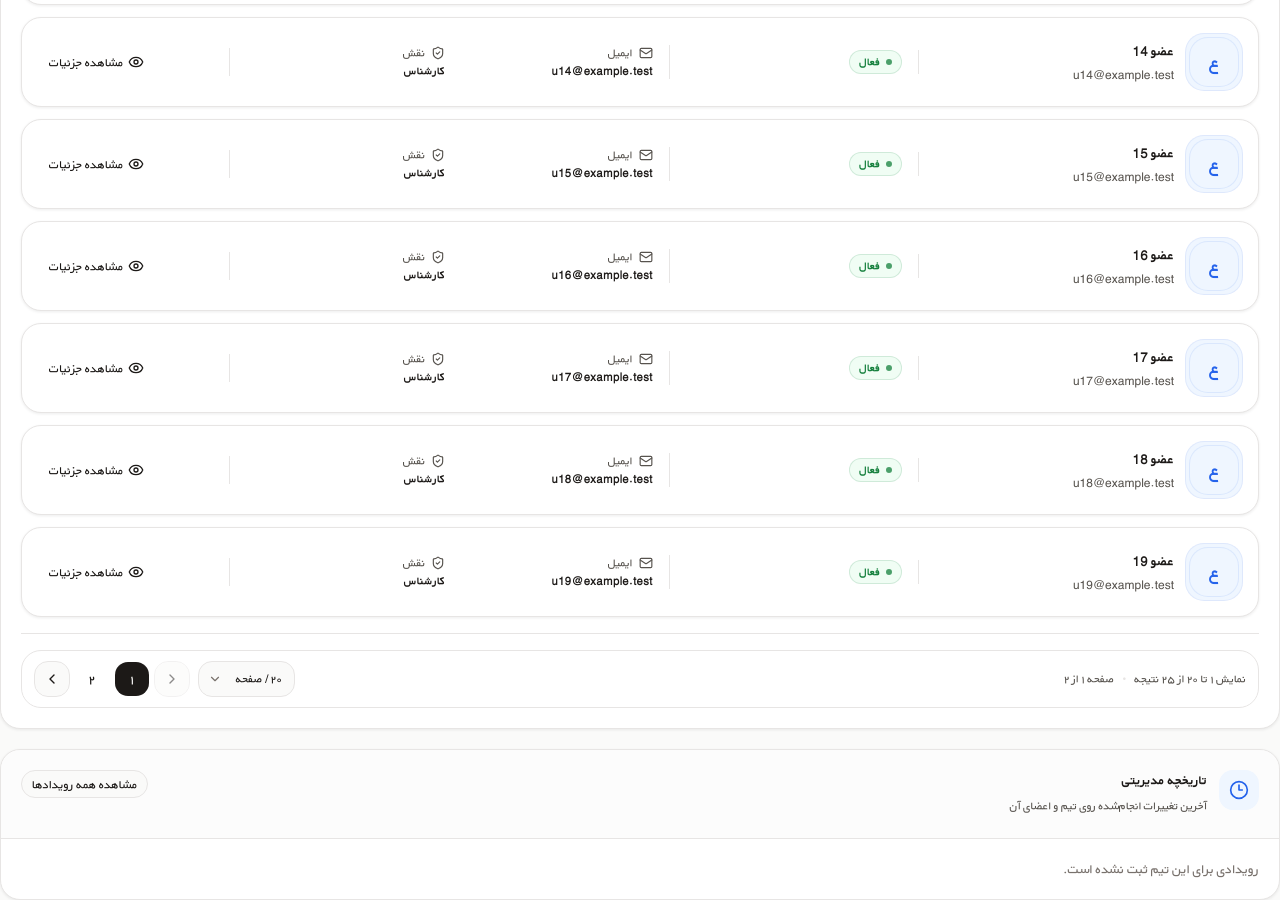
Test case: Team members paginate the returned array without inventing server page requests
(page scrolled)
expect the text "عضو 20" is not shown: met
Click the button named "بعدی": point(52, 679) [34,661,70,697]
(page scrolled)
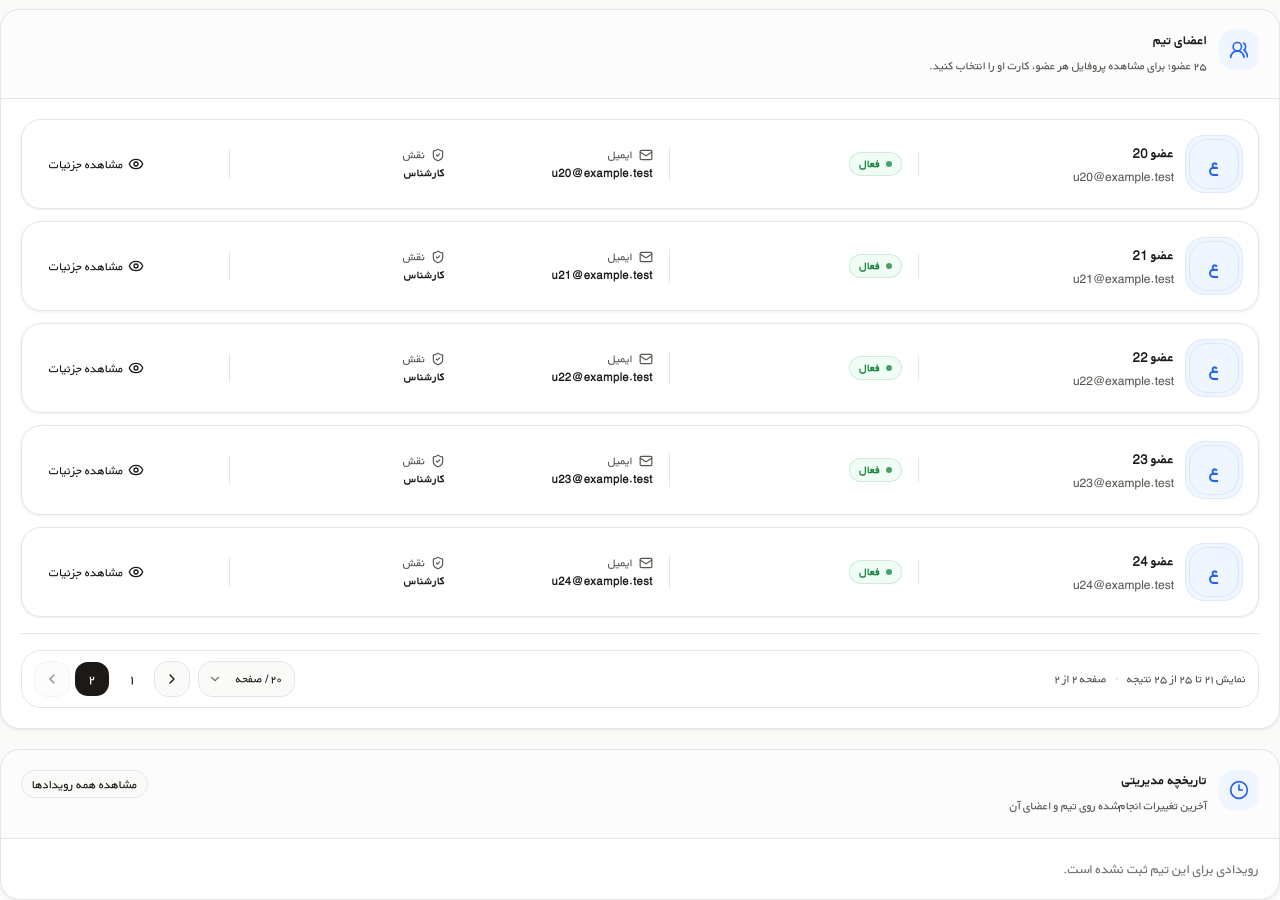
expect the text "عضو 20" is shown: met, box [1132,143,1174,163]
